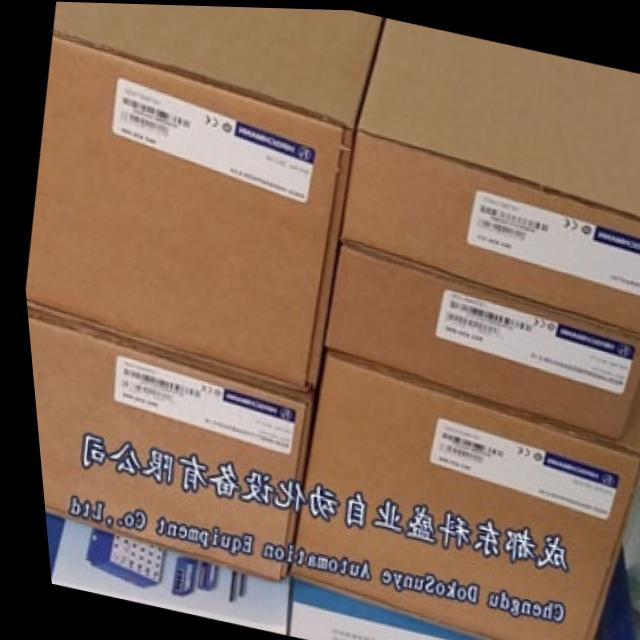box: (21, 1, 386, 396), (281, 351, 640, 640), (336, 18, 640, 337), (21, 305, 308, 579), (317, 240, 640, 439)
